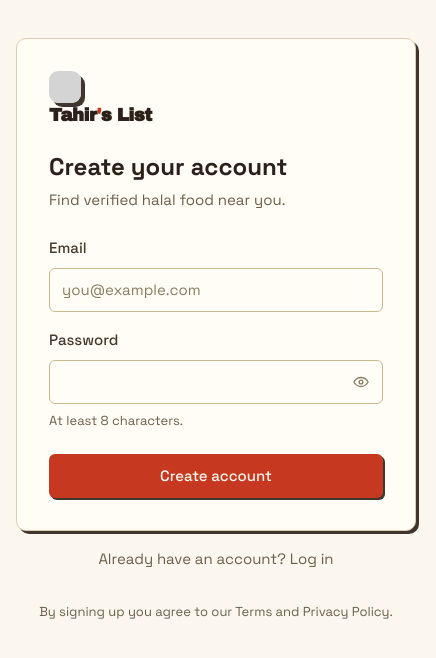
Test: SignUpPage — email-not-unique error (#2) › renders 'logging in' as a link to /login inside the email field error
Type "dup@example.com" into the field labelled "Email" at (216, 290), box [49, 268, 383, 312]
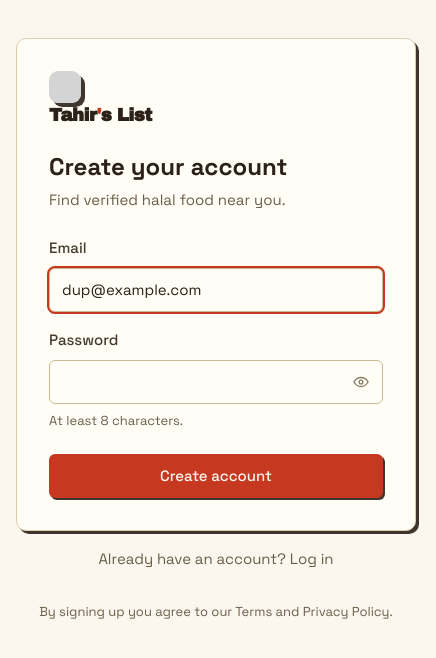
Type "password123" into the password field labelled "Password" at (216, 382), box [49, 360, 383, 404]
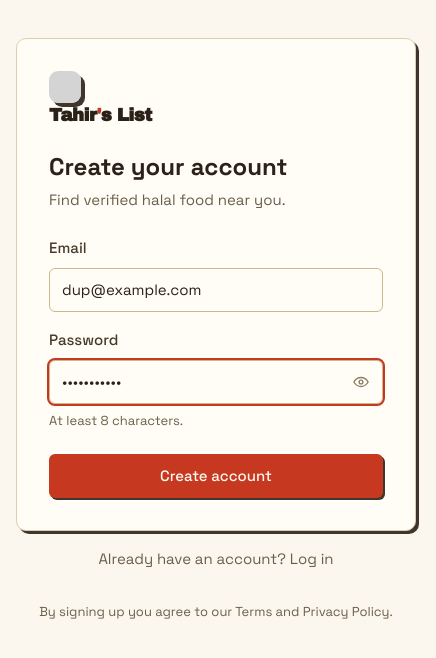
Click the button "Create account" at (216, 476), box [49, 454, 383, 498]
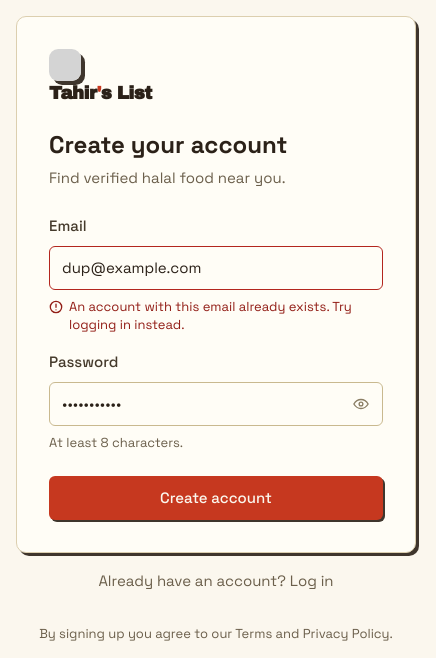
Expected: the message reads "An account with this email already exists. Try logging in instead.", [49, 298, 383, 334]
